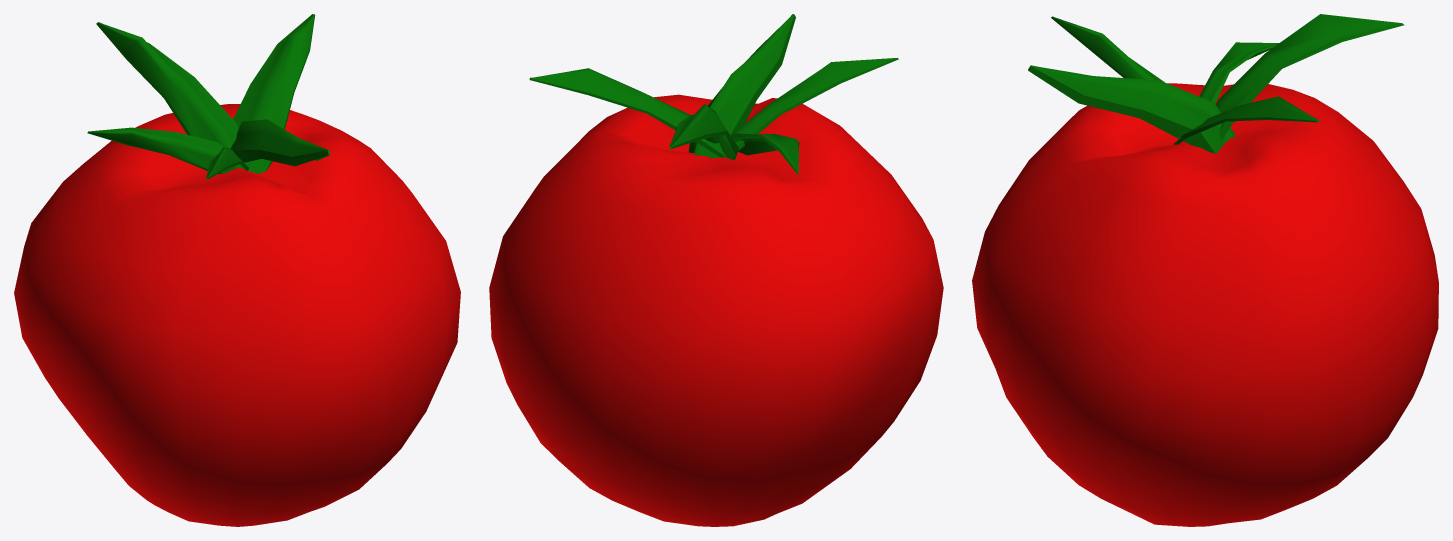
Rendered from Tomato.fbx.
The picture shows the model from 3 angles, left to right: view 1: azimuth 30°, elevation 25°; view 2: azimuth 150°, elevation 25°; view 3: azimuth 270°, elevation 25°; orthographic projection. The views are drawn at different scales.
Visible parts, largest first — view 1: pSphere2, pCube6, pCube4, pCube8, pCube9; view 2: pSphere2, pCube4, pCube6, pCube9, pCube8; view 3: pSphere2, pCube4, pCube6, pCube9, pCube8.
Part boxes in pixels (<box>): pSphere2: <box>14,22,460,526</box>; pCube6: <box>233,14,315,173</box>; pCube4: <box>230,119,330,166</box>; pCube8: <box>87,127,240,173</box>; pCube9: <box>206,147,248,179</box>; pSphere2: <box>489,94,943,526</box>; pCube4: <box>688,14,795,158</box>; pCube6: <box>529,68,724,157</box>; pCube9: <box>719,58,898,157</box>; pCube8: <box>731,133,799,174</box>; pSphere2: <box>972,14,1438,526</box>; pCube4: <box>1028,65,1235,153</box>; pCube6: <box>1173,96,1319,144</box>; pCube9: <box>1051,16,1163,81</box>; pCube8: <box>1199,42,1278,103</box>.
Bounding box in the file's own units: 1.99 × 2.27 × 2.03.
